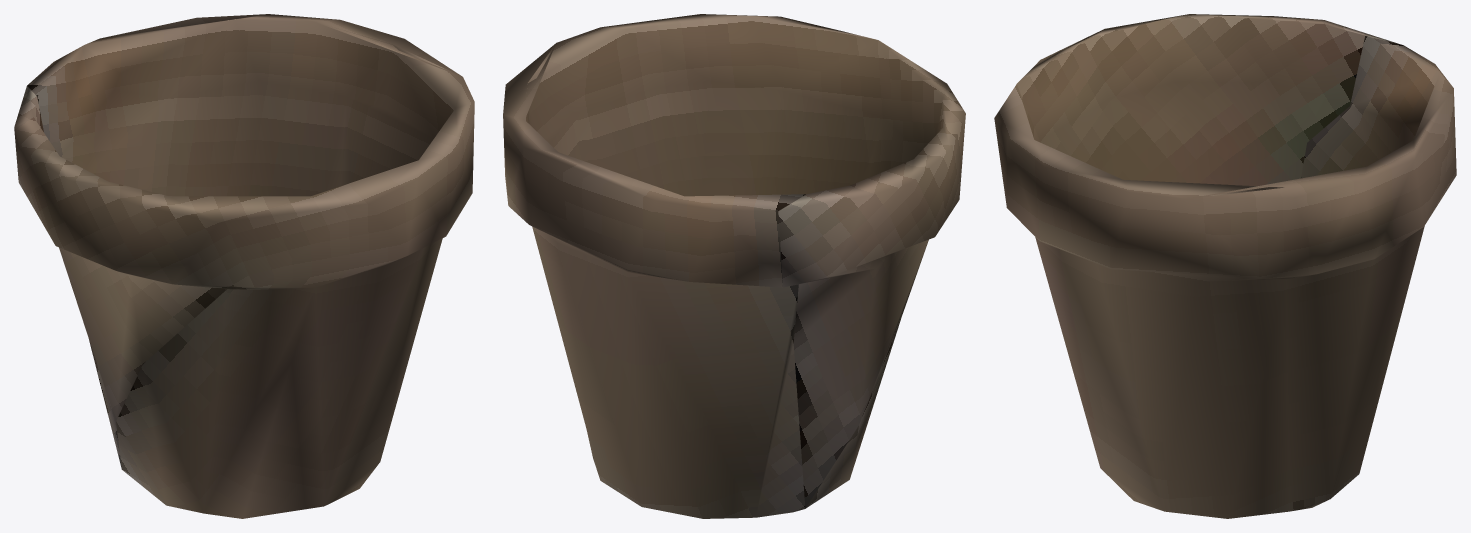
File: Central_Garden_Flower_Pot_Goo_425-low.glb
3 renders of one model, left to right at view 1: azimuth 30°, elevation 25°; view 2: azimuth 150°, elevation 25°; view 3: azimuth 270°, elevation 25°, orthographic.
Visible parts, largest first — view 1: Central_Garden_Flower_Pot_Goo_425; view 2: Central_Garden_Flower_Pot_Goo_425; view 3: Central_Garden_Flower_Pot_Goo_425.
Part boxes in pixels (x1,y1,x2,y2): Central_Garden_Flower_Pot_Goo_425: (14,14,474,518); Central_Garden_Flower_Pot_Goo_425: (503,14,965,518); Central_Garden_Flower_Pot_Goo_425: (994,14,1456,518).
Bounding box in the file's own units: 0.113 × 0.0999 × 0.113.
Materials: 1 (1 with a texture image).
